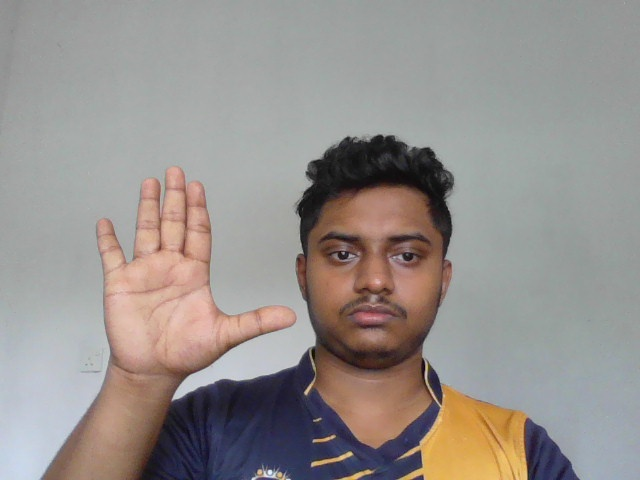Hello: (93, 163, 299, 380)
